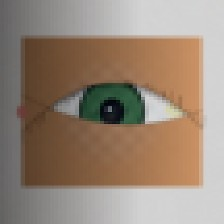pinguecula_lesion: (155, 93, 197, 127)
